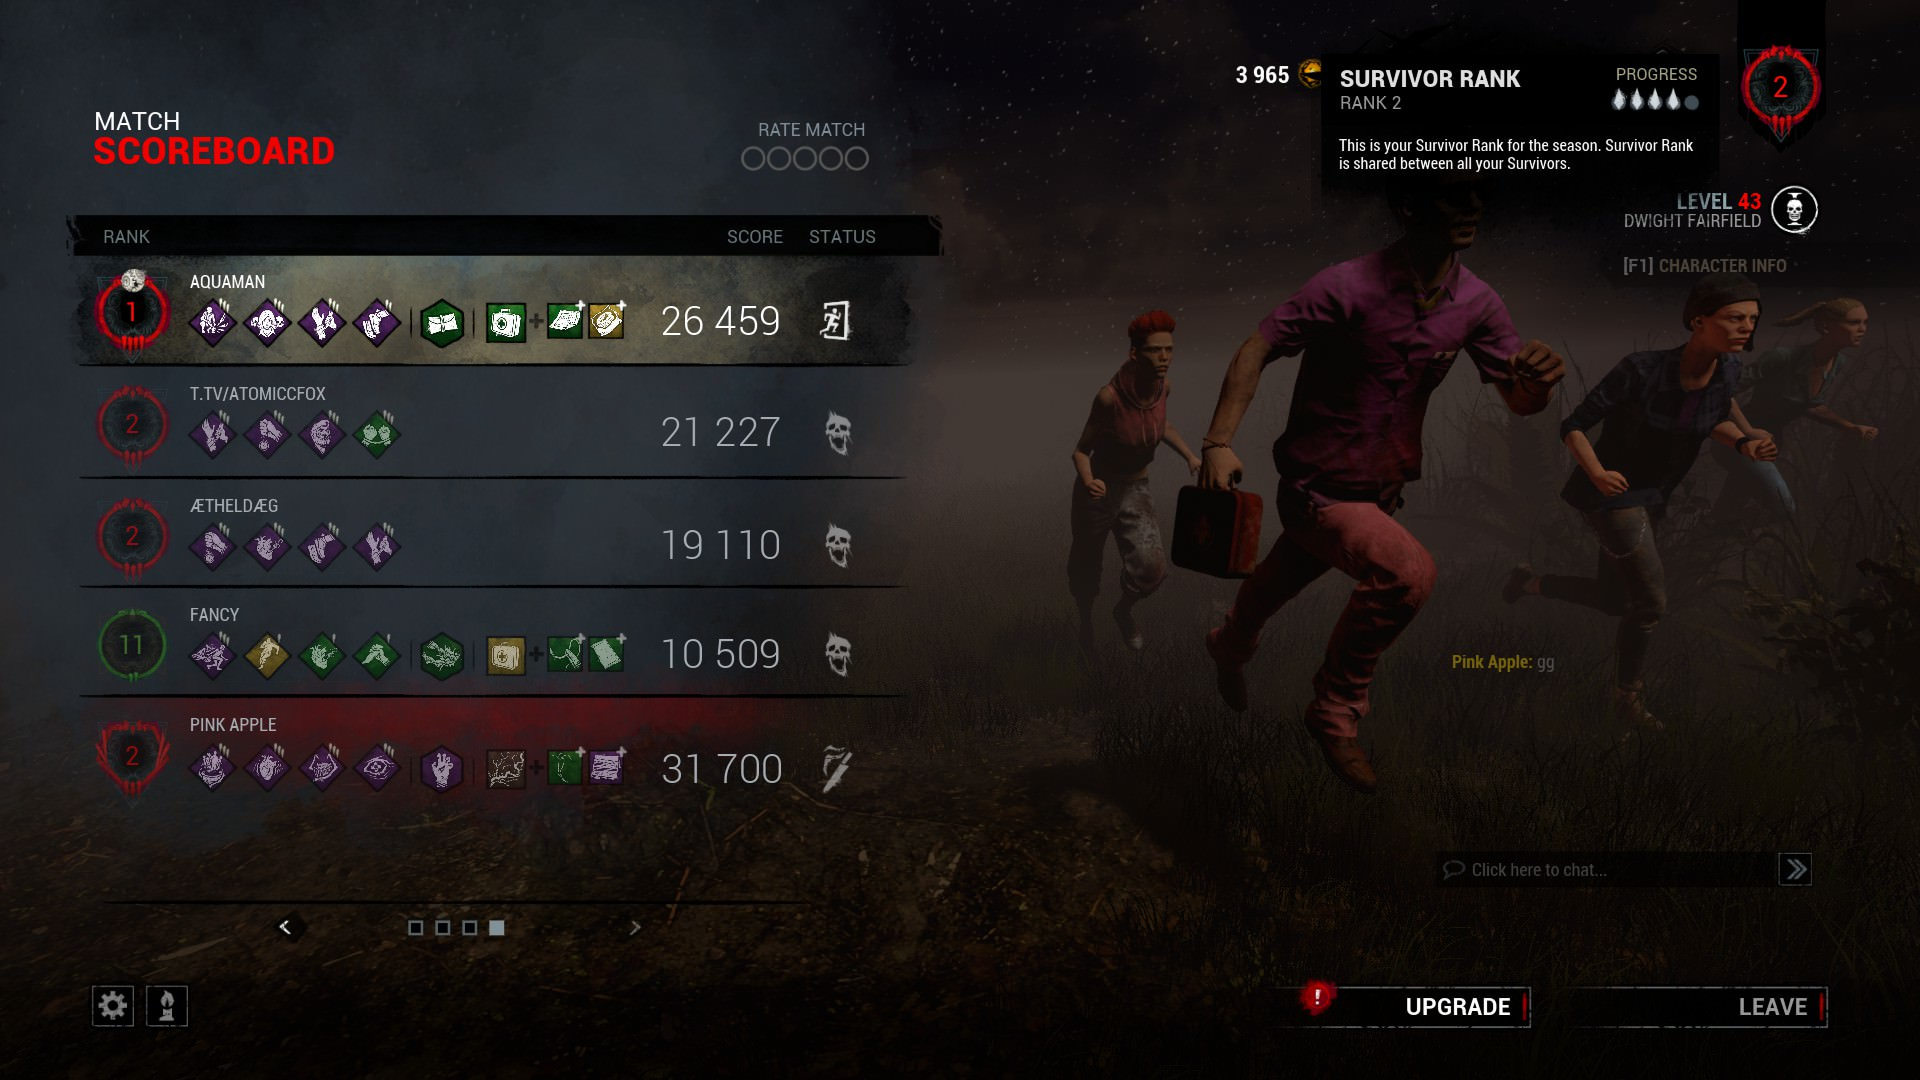a_nurses_calling: (352, 745, 404, 794)
adrenaline: (297, 632, 348, 680), (241, 524, 291, 572)
bbq_and_chilli: (186, 745, 237, 794)
bond: (351, 410, 402, 459)
borrowed_time: (186, 524, 237, 572), (241, 410, 291, 459)
dead_hard: (243, 632, 293, 680)
decisive_strike: (349, 632, 401, 680)
distressing: (240, 744, 291, 793)
hex:ruin: (297, 744, 348, 793)
self_care: (295, 298, 347, 347), (187, 410, 237, 459), (353, 522, 404, 571)
sole_survivor: (240, 299, 291, 348)
sprint_burst: (351, 299, 402, 348), (295, 521, 347, 570)
unbreakable: (295, 411, 347, 460)
urban_evasion: (185, 633, 236, 682)
vigil: (186, 299, 237, 348)
